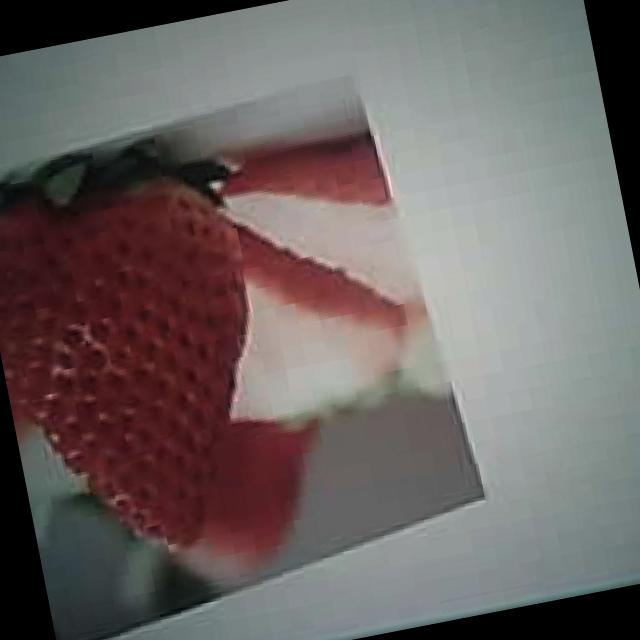strawberry: (0, 149, 292, 578)
